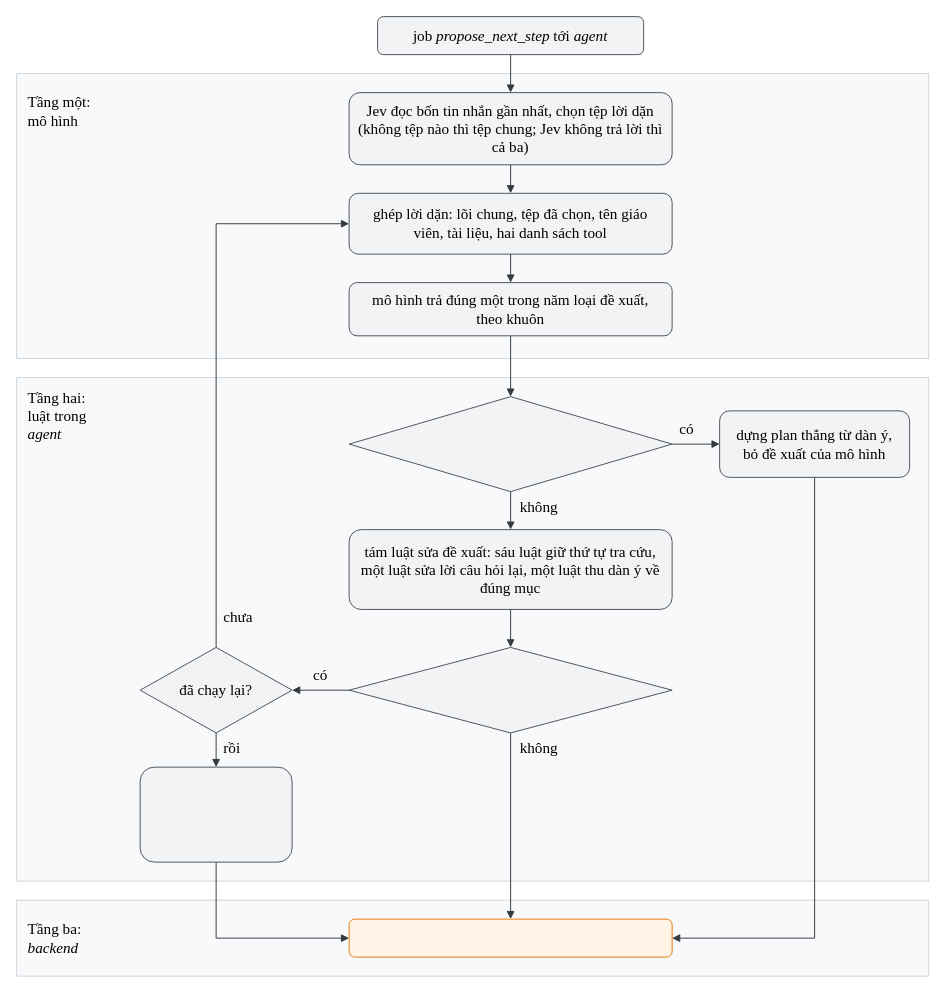
This 945x993 diagram has some shape labels left out. The shapes that lost their labels are listed below. From the top down, each one's centre as x and y in pixels, then its label:
[510,444]: giáo viên vừa xem dàn ý và chỉ nói đồng ý?
[510,689]: vấp phép kiểm?
[215,814]: giữ một trong hai đề xuất; cả hai rỗng thì một câu trung tính
[510,937]: đề xuất về backend , được kiểm lại
